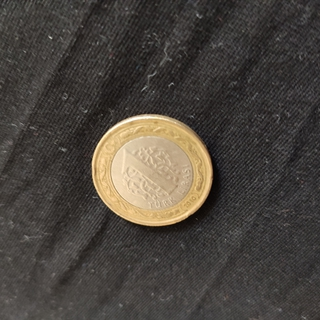1TL: (90, 112, 216, 228)
